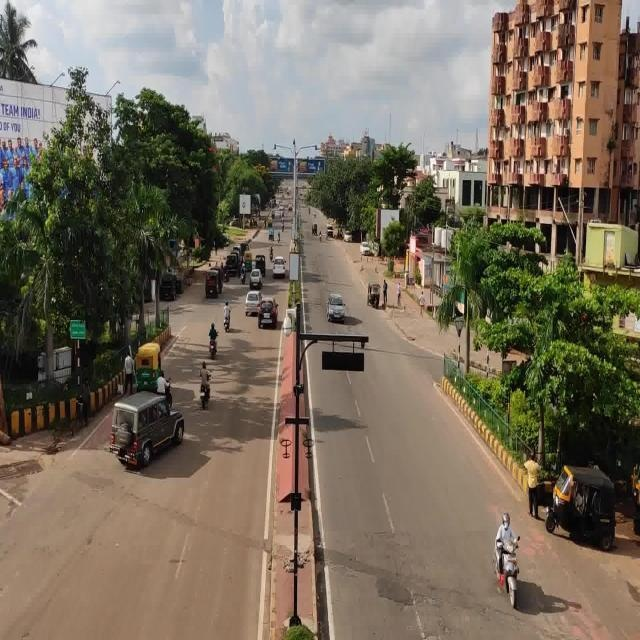Motorcycle: (479, 528, 532, 614)
